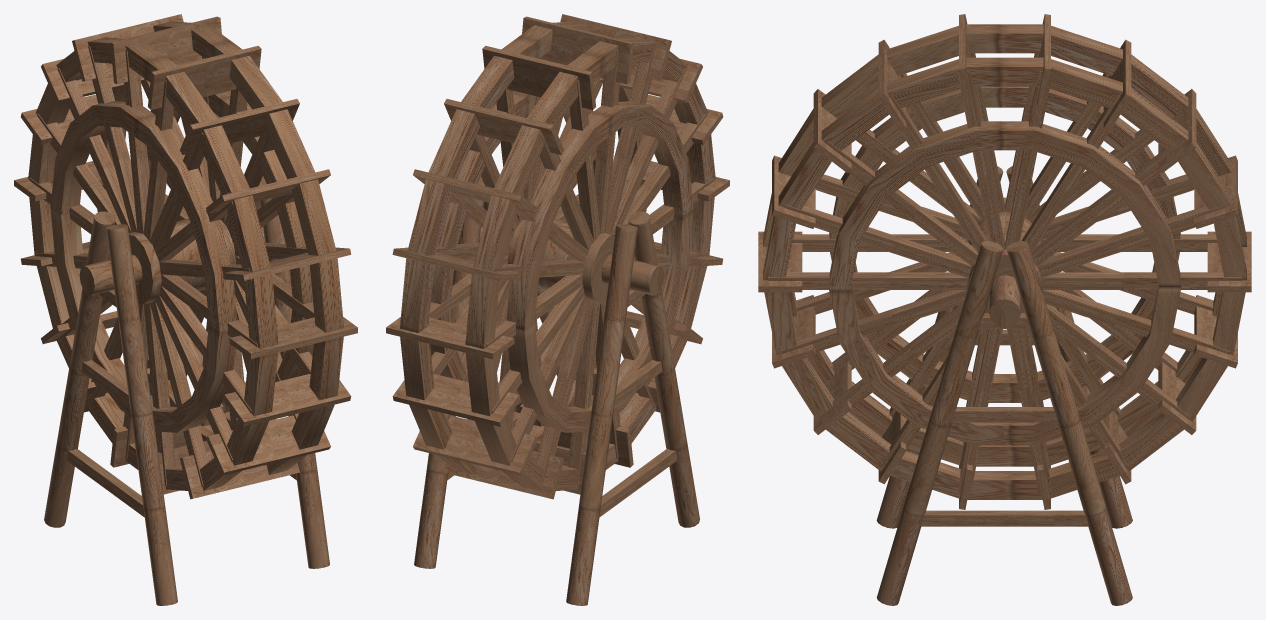
3 views of the same model, side by side, from view 1: azimuth 30°, elevation 25°; view 2: azimuth 150°, elevation 25°; view 3: azimuth 270°, elevation 25° (orthographic). The views are drawn at different scales.
Visible parts, largest first — view 1: Tube007, Tube008, Tube005, Cylinder005, Cylinder006, Box041, Box045, Box042, Tube006, Cylinder007, Box043, Box030 (+32 smaller); view 2: Tube007, Tube008, Tube005, Cylinder006, Cylinder005, Box039, Box040, Box044, Tube006, Cylinder008, Box038, Box035 (+33 smaller); view 3: Tube005, Tube006, Tube007, Tube008, Cylinder008, Cylinder007, Box001, Box002, Box009, Box012, Box008, Box005 (+34 smaller).
Part boxes in pixels (x1,y1,x2,y2): Tube007: (28, 37, 278, 490); Tube008: (50, 101, 237, 432); Tube005: (97, 21, 343, 474); Cylinder005: (106, 224, 177, 605); Cylinder006: (44, 211, 115, 527); Box041: (88, 46, 208, 486); Box045: (124, 50, 175, 485); Box042: (57, 68, 232, 461); Tube006: (148, 90, 313, 406); Cylinder007: (259, 198, 329, 568); Box043: (37, 113, 251, 413); Box030: (206, 415, 330, 475); Tube007: (465, 37, 715, 490); Tube008: (506, 101, 693, 432); Tube005: (400, 21, 646, 474); Cylinder006: (566, 224, 637, 605); Cylinder005: (628, 211, 699, 527); Box039: (535, 46, 655, 486); Box040: (568, 50, 620, 485); Box044: (511, 68, 686, 461); Tube006: (430, 90, 596, 406); Cylinder008: (414, 198, 484, 568); Box038: (492, 113, 706, 413); Box035: (413, 415, 537, 475); Tube005: (763, 57, 1246, 499); Tube006: (828, 121, 1181, 445); Tube007: (763, 24, 1246, 466); Tube008: (829, 86, 1180, 402); Cylinder008: (1006, 241, 1132, 605); Cylinder007: (876, 241, 1003, 605); Box001: (768, 272, 1241, 289); Box002: (783, 204, 1229, 354); Box009: (780, 204, 1226, 354); Box012: (825, 141, 1190, 419); Box008: (819, 141, 1184, 419); Box005: (957, 71, 1052, 496).
Size of the model in its own units: 54.76 by 131 by 112.
1 material, 1 textured.
